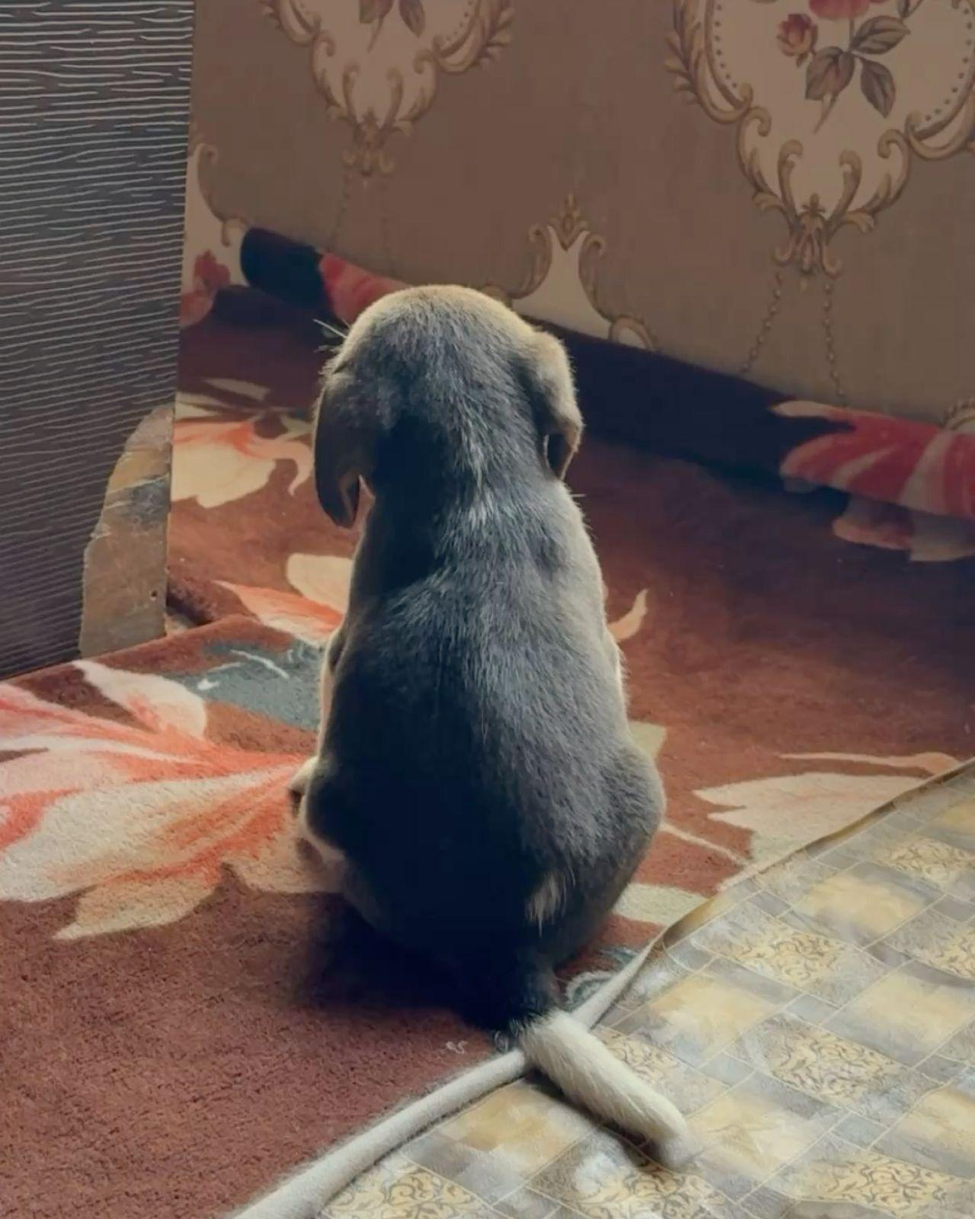puppy-dog: (283, 284, 707, 1175)
